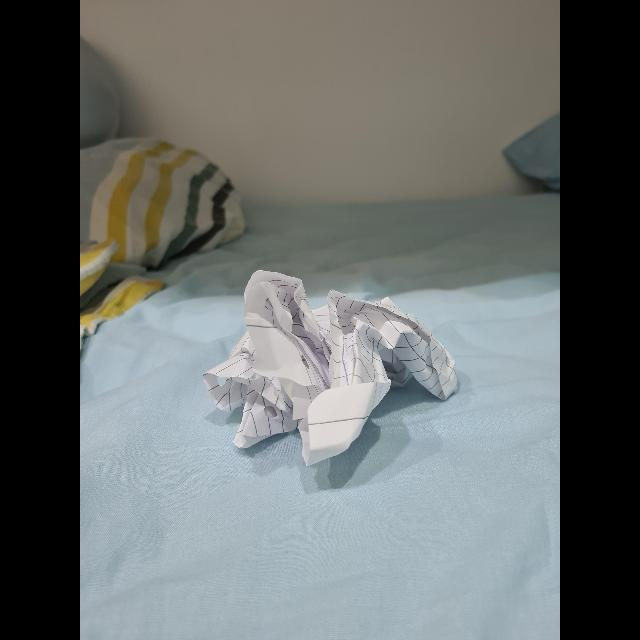scrap_paper: (218, 261, 467, 457)
